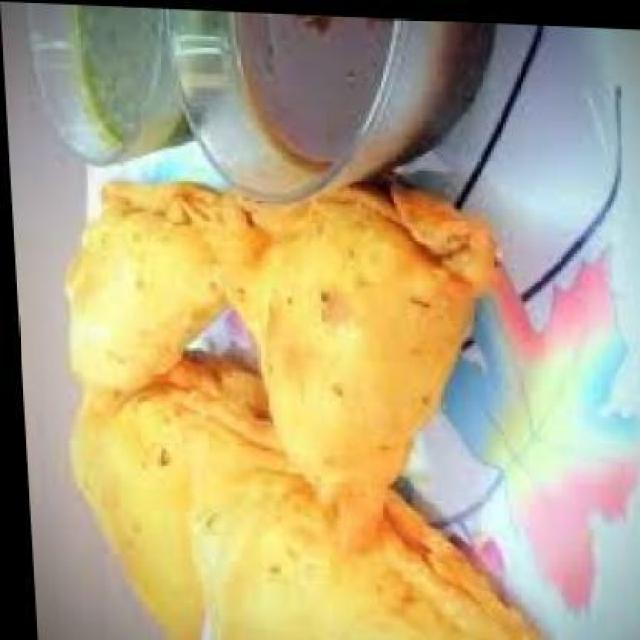samosa: (174, 167, 511, 556), (177, 386, 541, 640), (60, 341, 280, 640), (57, 174, 265, 421)
